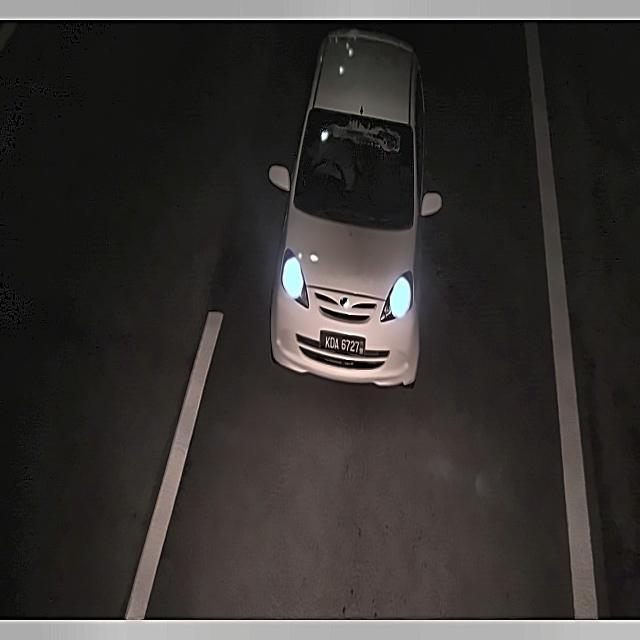car: (315, 328, 374, 361)
